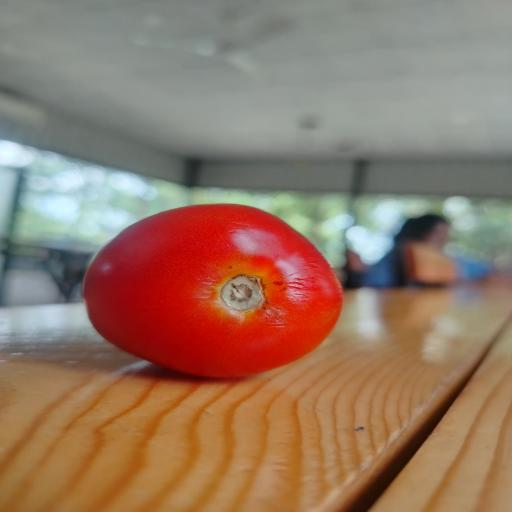spoiled: (83, 204, 342, 377)
